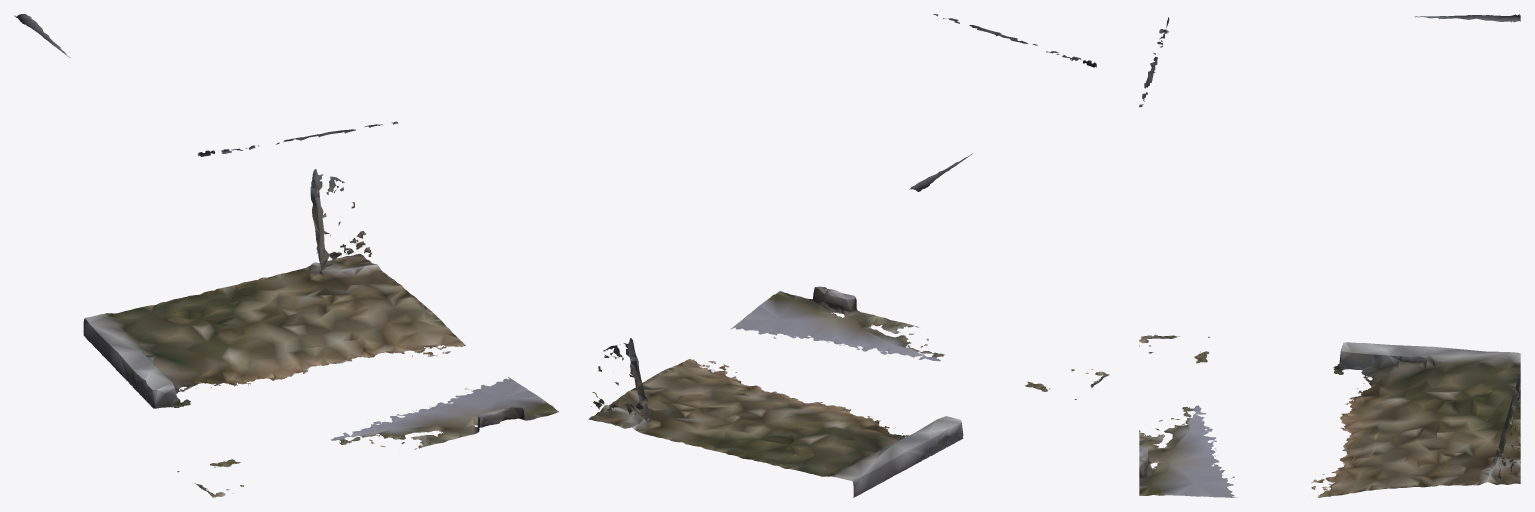
Rendered from coarse.glb.
The picture shows the model from 3 angles, left to right: view 1: azimuth 30°, elevation 25°; view 2: azimuth 150°, elevation 25°; view 3: azimuth 270°, elevation 25°; orthographic projection. The views are drawn at different scales.
Size of the model in its own units: 3.6 by 3.36 by 3.6.
